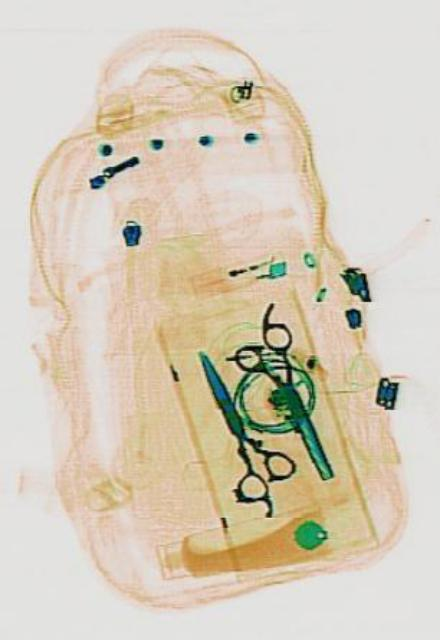Scissors: (216, 299, 352, 505), (169, 326, 303, 532)
